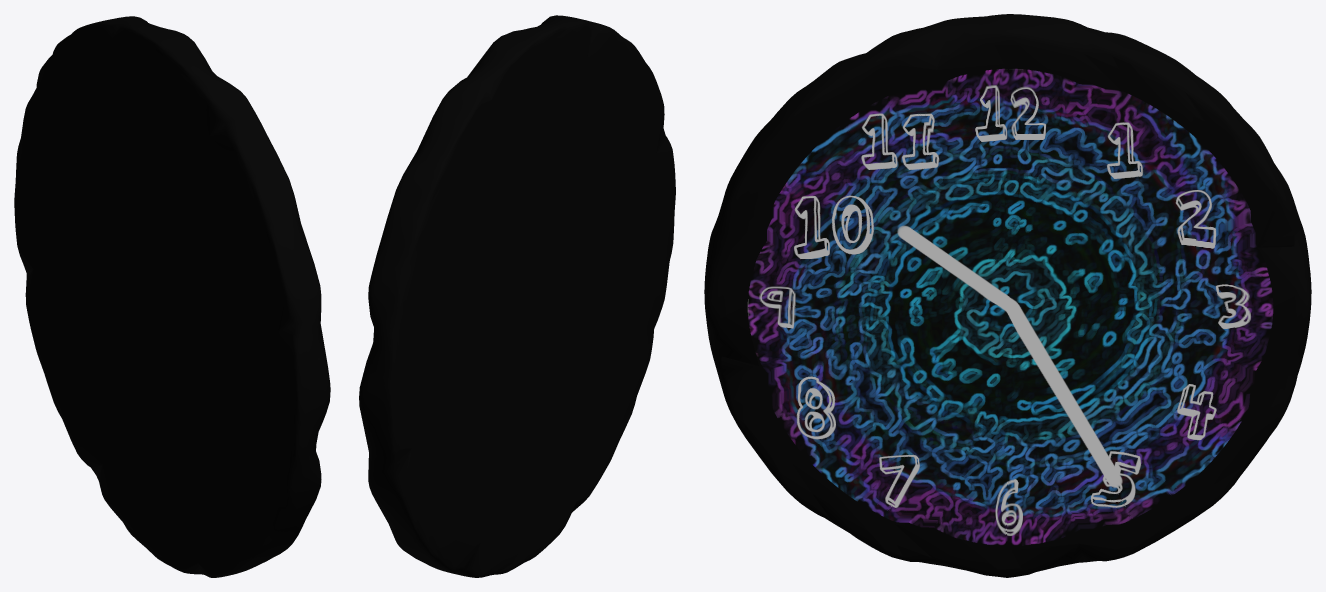
Rendered from Clock.fbx.
3 renders of one model, left to right at view 1: azimuth 30°, elevation 25°; view 2: azimuth 150°, elevation 25°; view 3: azimuth 270°, elevation 25°, orthographic. The views are drawn at different scales.
Parts seen in each view (by area): view 1: Cylinder; view 2: Cylinder; view 3: Cylinder.
Part boxes in pixels (x1,y1,x2,y2): Cylinder: [14, 16, 330, 577]; Cylinder: [359, 15, 675, 577]; Cylinder: [704, 14, 1311, 577].
Bounding box in the file's own units: 15.72 × 199 × 199.
